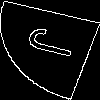J: (25, 25, 89, 63)
